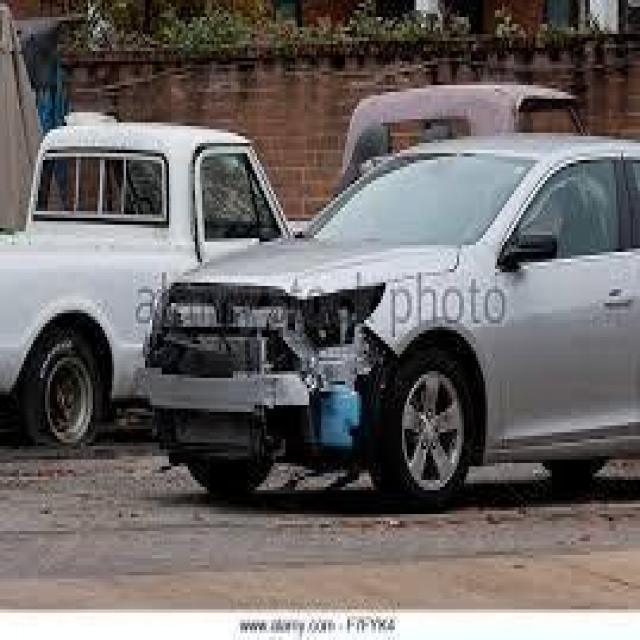damaged: (140, 276, 400, 460)
